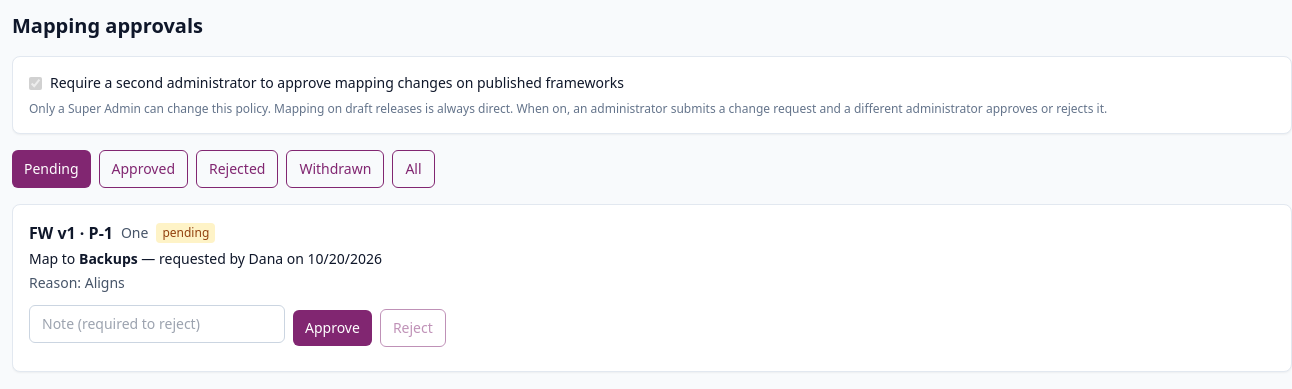
Test case: approvals: the requester can only withdraw; another administrator approves, and rejecting needs a note
Earlier steps of the test are not shown.
Later steps or results of the test are not shown.
Check: the button "Reject" is disabled, box x1=380 y1=309 x2=446 y2=347
Type "Not needed" into the field named "Note for P-1" at (157, 324), box x1=29 y1=305 x2=285 y2=343
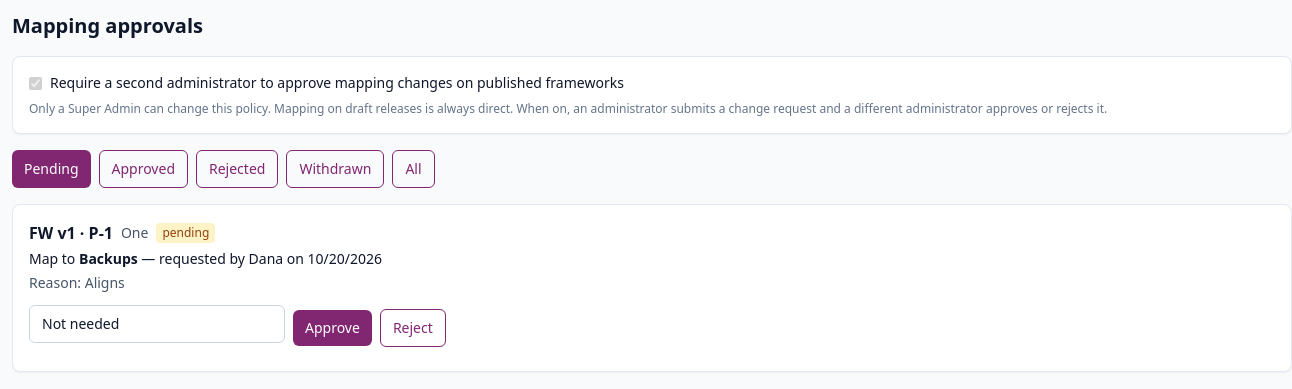
Check: the button "Reject" is enabled, box x1=380 y1=309 x2=446 y2=347
